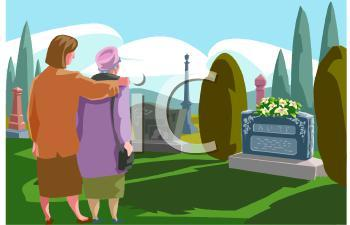person: (68, 42, 141, 221), (26, 29, 92, 223)
